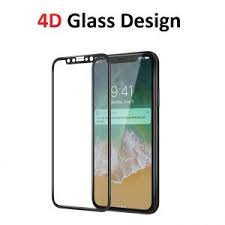iphone: (87, 48, 162, 214)
iphone10: (87, 49, 162, 215)
